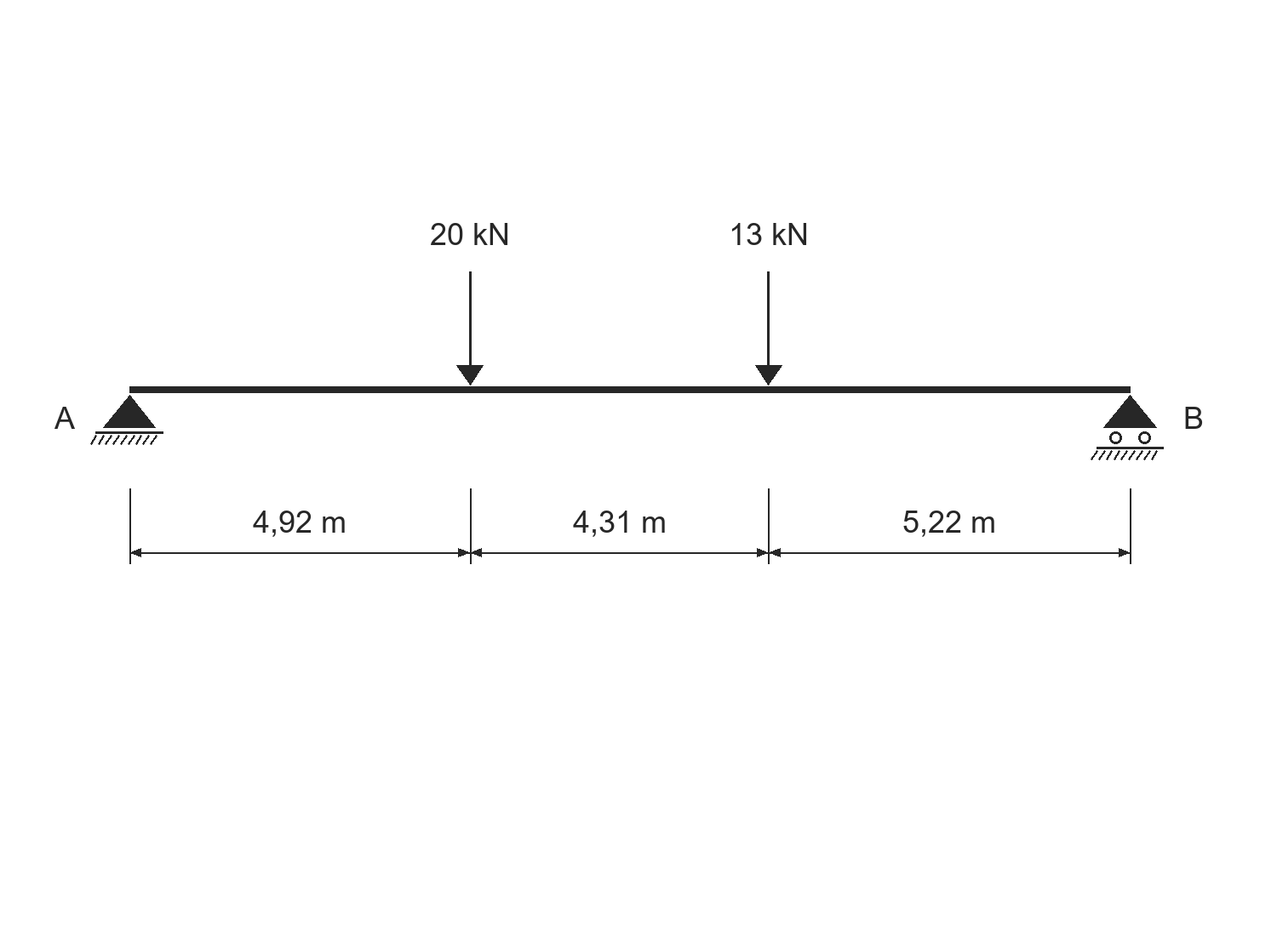pin_support: (90, 395, 163, 445)
point_load: (456, 271, 484, 385), (755, 271, 782, 385)
roller_support: (1091, 395, 1164, 460)
